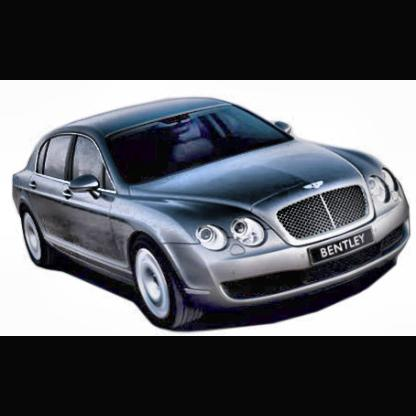Bentley Continental Flying Spur Sedan 2007: (14, 98, 413, 331)
